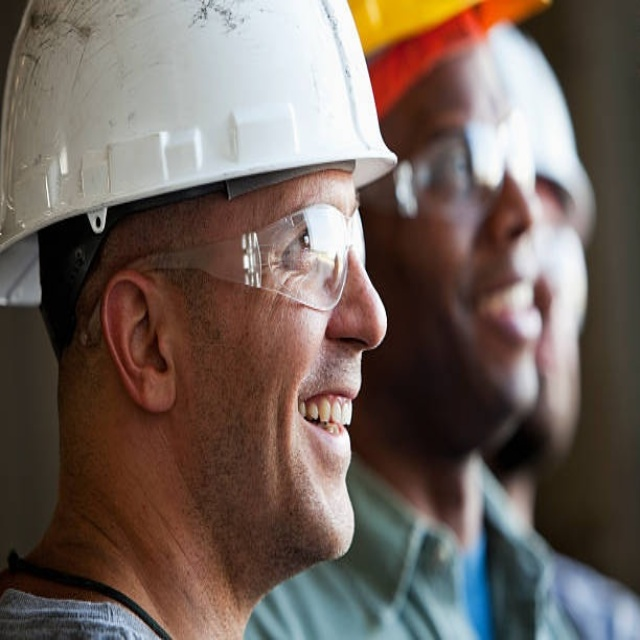Gafas: (81, 198, 371, 362), (367, 114, 541, 217)
Sin_mascara: (269, 360, 367, 548), (453, 254, 543, 405)
